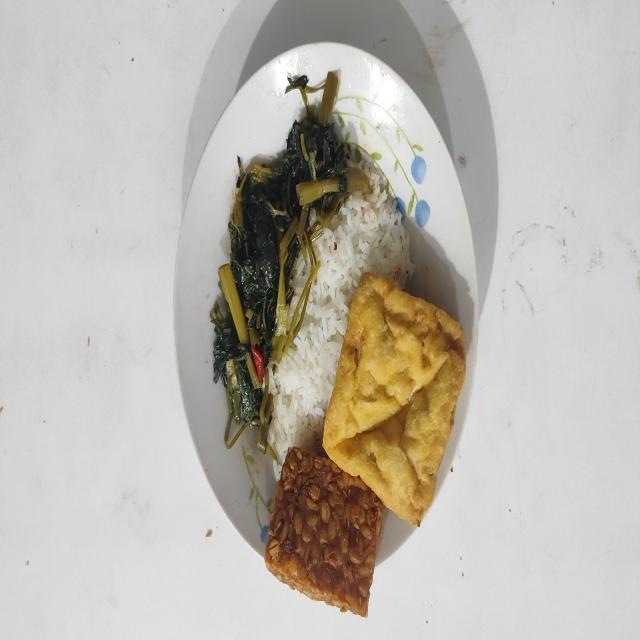nasi_putih: (268, 160, 414, 480)
tahu_goreng: (323, 273, 466, 526)
tempe_goreng: (265, 447, 385, 617)
tumis_kangkung: (211, 74, 372, 454)
